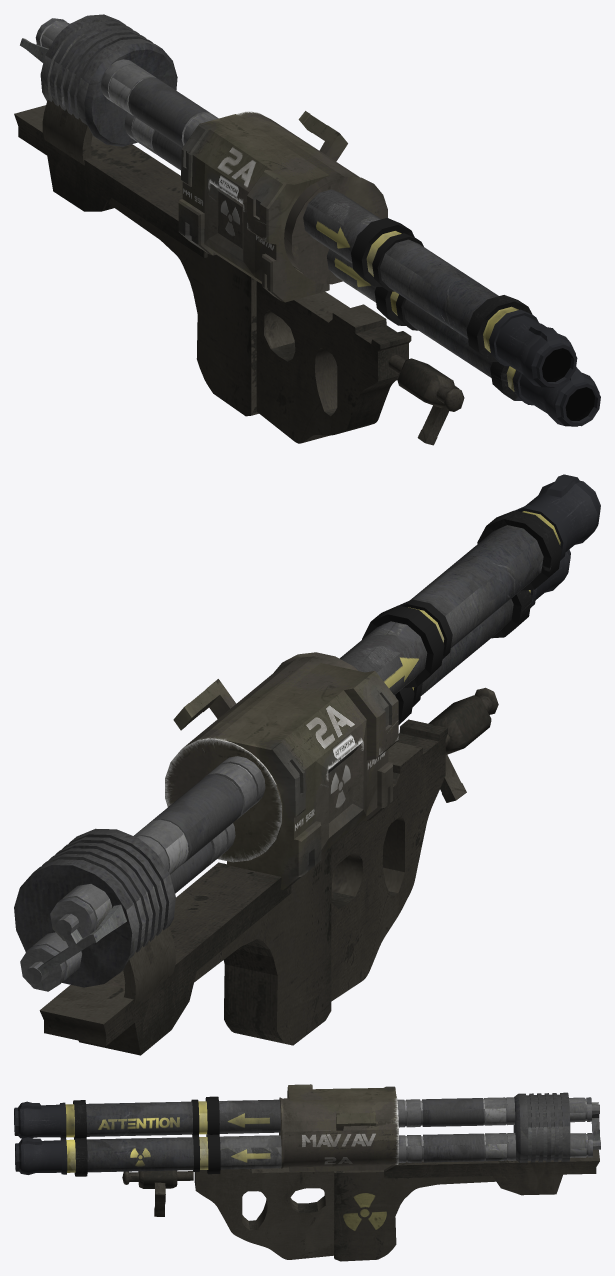
The model's file is rocket.obj.
3 views of the same model, one above another, from view 1: azimuth 30°, elevation 25°; view 2: azimuth 150°, elevation 25°; view 3: azimuth 270°, elevation 25° (orthographic). The views are drawn at different scales.
Parts seen in each view (by area): view 1: group3 group2 group1 polySurface3, polySurface4 group3 group2 group1, group3 group2 group1 polySurface19; view 2: group3 group2 group1 polySurface3, polySurface4 group3 group2 group1, group3 group2 group1 polySurface19; view 3: polySurface4 group3 group2 group1, group3 group2 group1 polySurface3, group3 group2 group1 polySurface19.
Part boxes in pixels (x1,y1,x2,y2): group3 group2 group1 polySurface3: [14, 100, 464, 445]; polySurface4 group3 group2 group1: [20, 14, 600, 426]; group3 group2 group1 polySurface19: [178, 111, 387, 302]; group3 group2 group1 polySurface3: [39, 687, 498, 1055]; polySurface4 group3 group2 group1: [14, 474, 600, 991]; group3 group2 group1 polySurface19: [165, 652, 398, 890]; polySurface4 group3 group2 group1: [14, 1092, 600, 1176]; group3 group2 group1 polySurface3: [122, 1149, 599, 1261]; group3 group2 group1 polySurface19: [279, 1084, 398, 1171].
Bounding box in the file's own units: 0.564 × 1.13 × 3.7.
